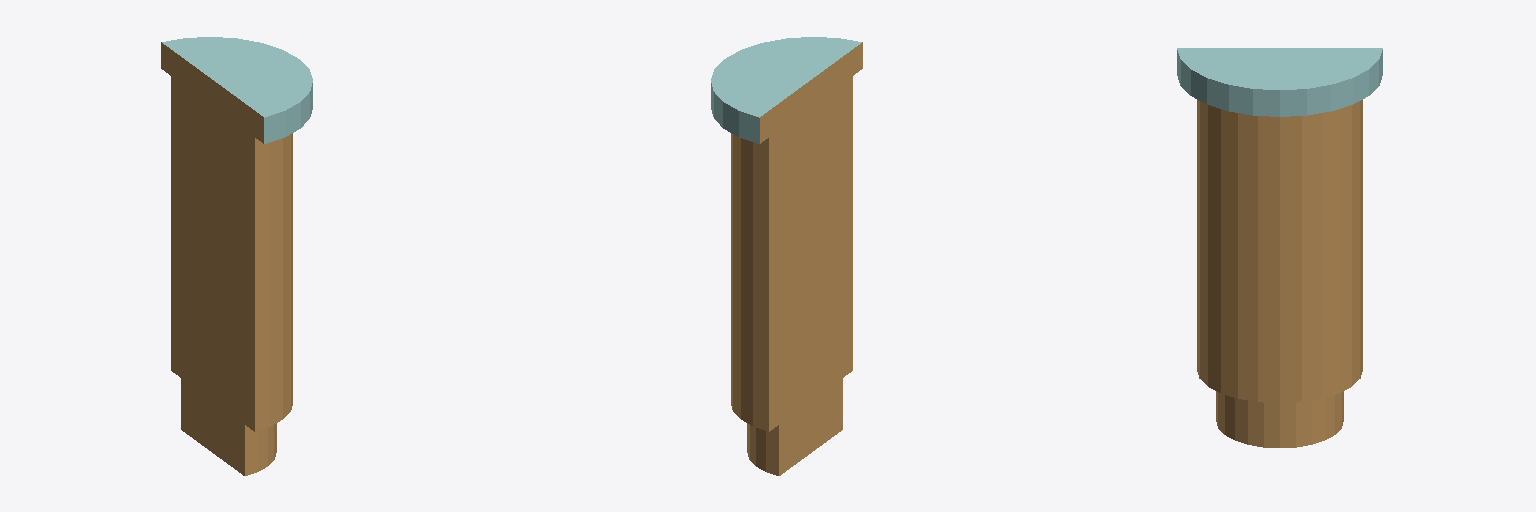
Rendered from kitchenBarEnd.obj.
3 views of the same model, side by side, from view 1: azimuth 30°, elevation 25°; view 2: azimuth 150°, elevation 25°; view 3: azimuth 270°, elevation 25° (orthographic).
Parts seen in each view (by area): view 1: kitchenBarEnd; view 2: kitchenBarEnd; view 3: kitchenBarEnd.
Part boxes in pixels (left/top/right/bottom): kitchenBarEnd: left=161, top=37, right=312, bottom=475; kitchenBarEnd: left=711, top=37, right=862, bottom=475; kitchenBarEnd: left=1177, top=48, right=1382, bottom=447.
Size of the model in its own units: 1.02 by 4.2 by 2.1.